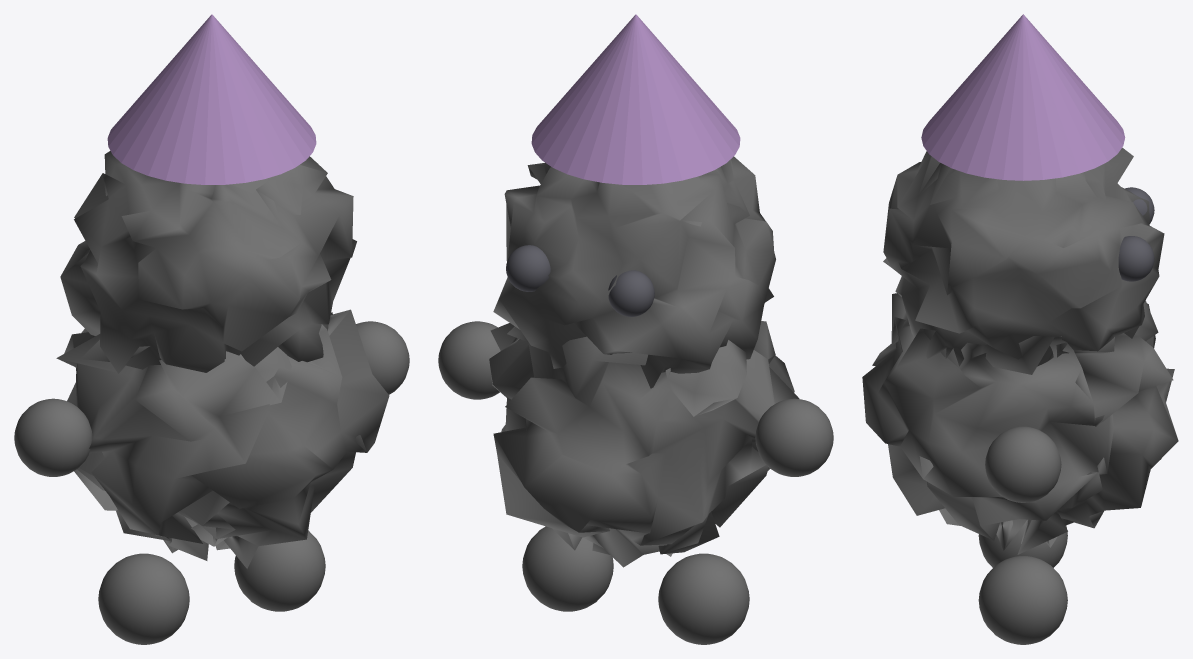
Rendered from clay_cat_witch_hat.glb.
The picture shows the model from 3 angles, left to right: view 1: azimuth 30°, elevation 25°; view 2: azimuth 150°, elevation 25°; view 3: azimuth 270°, elevation 25°; orthographic projection. The views are drawn at different scales.
Visible parts, largest first — view 1: hat; view 2: hat; view 3: hat.
Part boxes in pixels (x1,y1,x2,y2): hat: [14, 14, 409, 644]; hat: [438, 14, 833, 644]; hat: [862, 14, 1178, 644].
Bounding box in the file's own units: 1.43 × 2.16 × 1.04.
